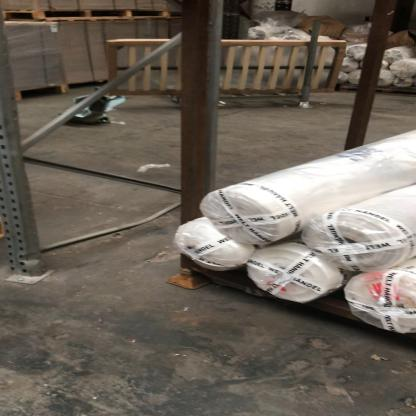vertical_damage: (7, 248, 58, 285)
